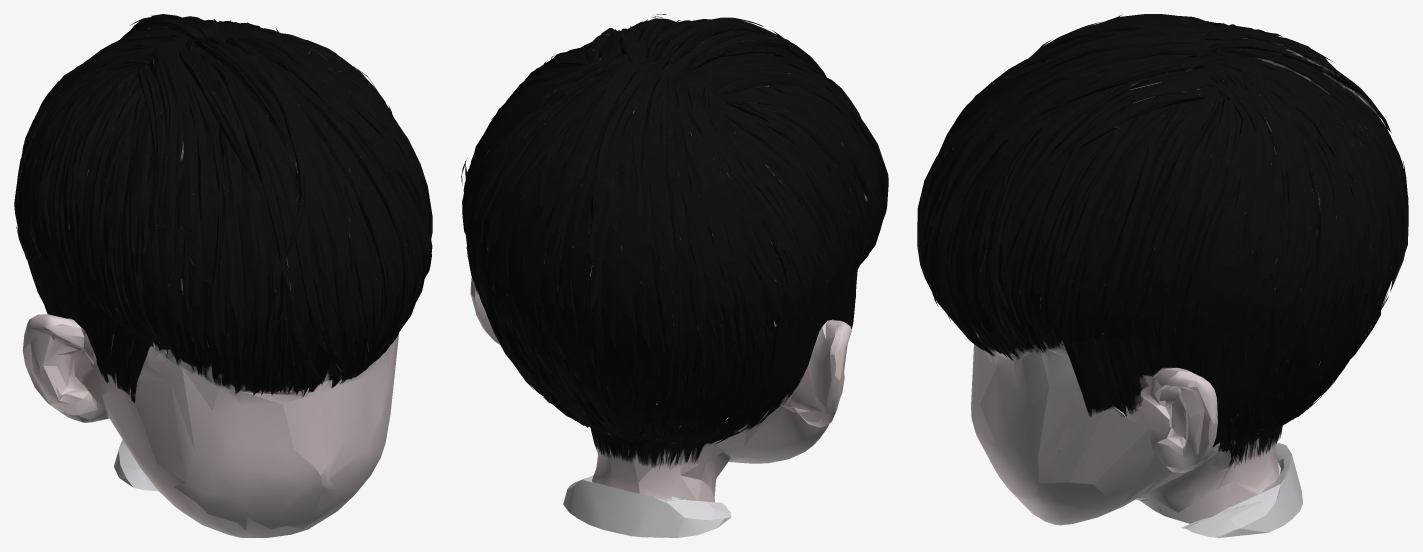
File: hair_m_buzz.glb
3 views of the same model, side by side, from view 1: azimuth 30°, elevation 25°; view 2: azimuth 150°, elevation 25°; view 3: azimuth 270°, elevation 25° (orthographic). The views are drawn at different scales.
Bounding box in the file's own units: 1.63 × 1.88 × 1.8.
Materials: 1 (1 with a texture image).
